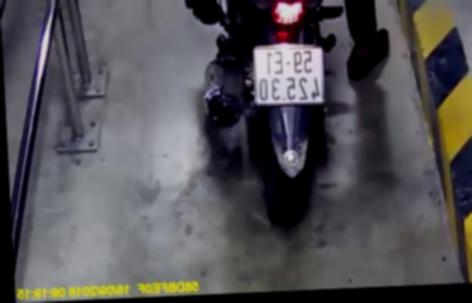License_Plate: (237, 39, 335, 112)
